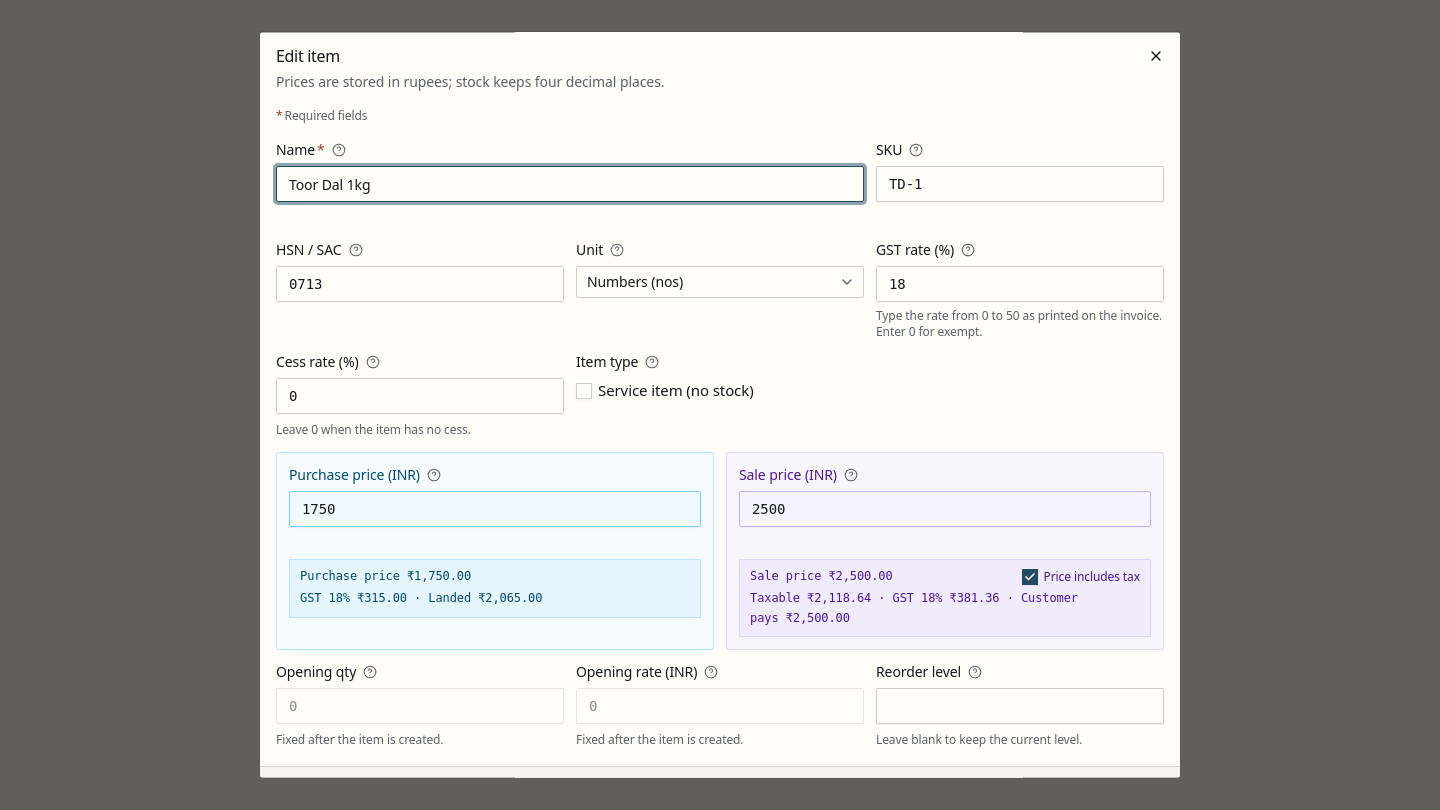
it: ItemDialog tax and price breakup › recomputes the customer price when the flag is cleared
The width and height of the screenshot is (1440, 810).
Click the checkbox named "Price includes tax" next to "Price includes tax" at [1030, 577], box [1022,569,1038,585]
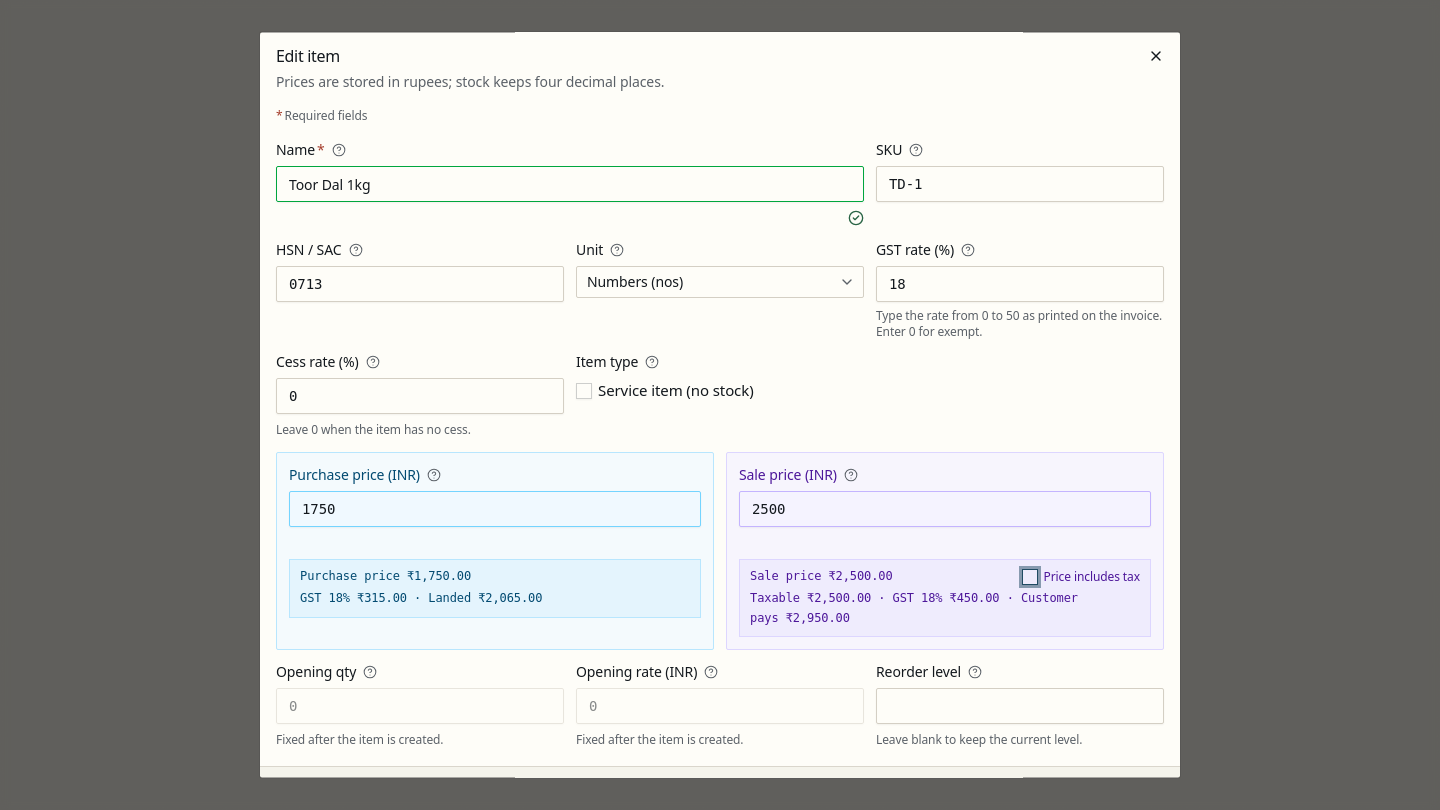
expect the text "Taxable ₹2,500.00 · GST 18% ₹450.00 · Customer pays ₹2,950.00" is shown: met, box [750,592,1078,625]
